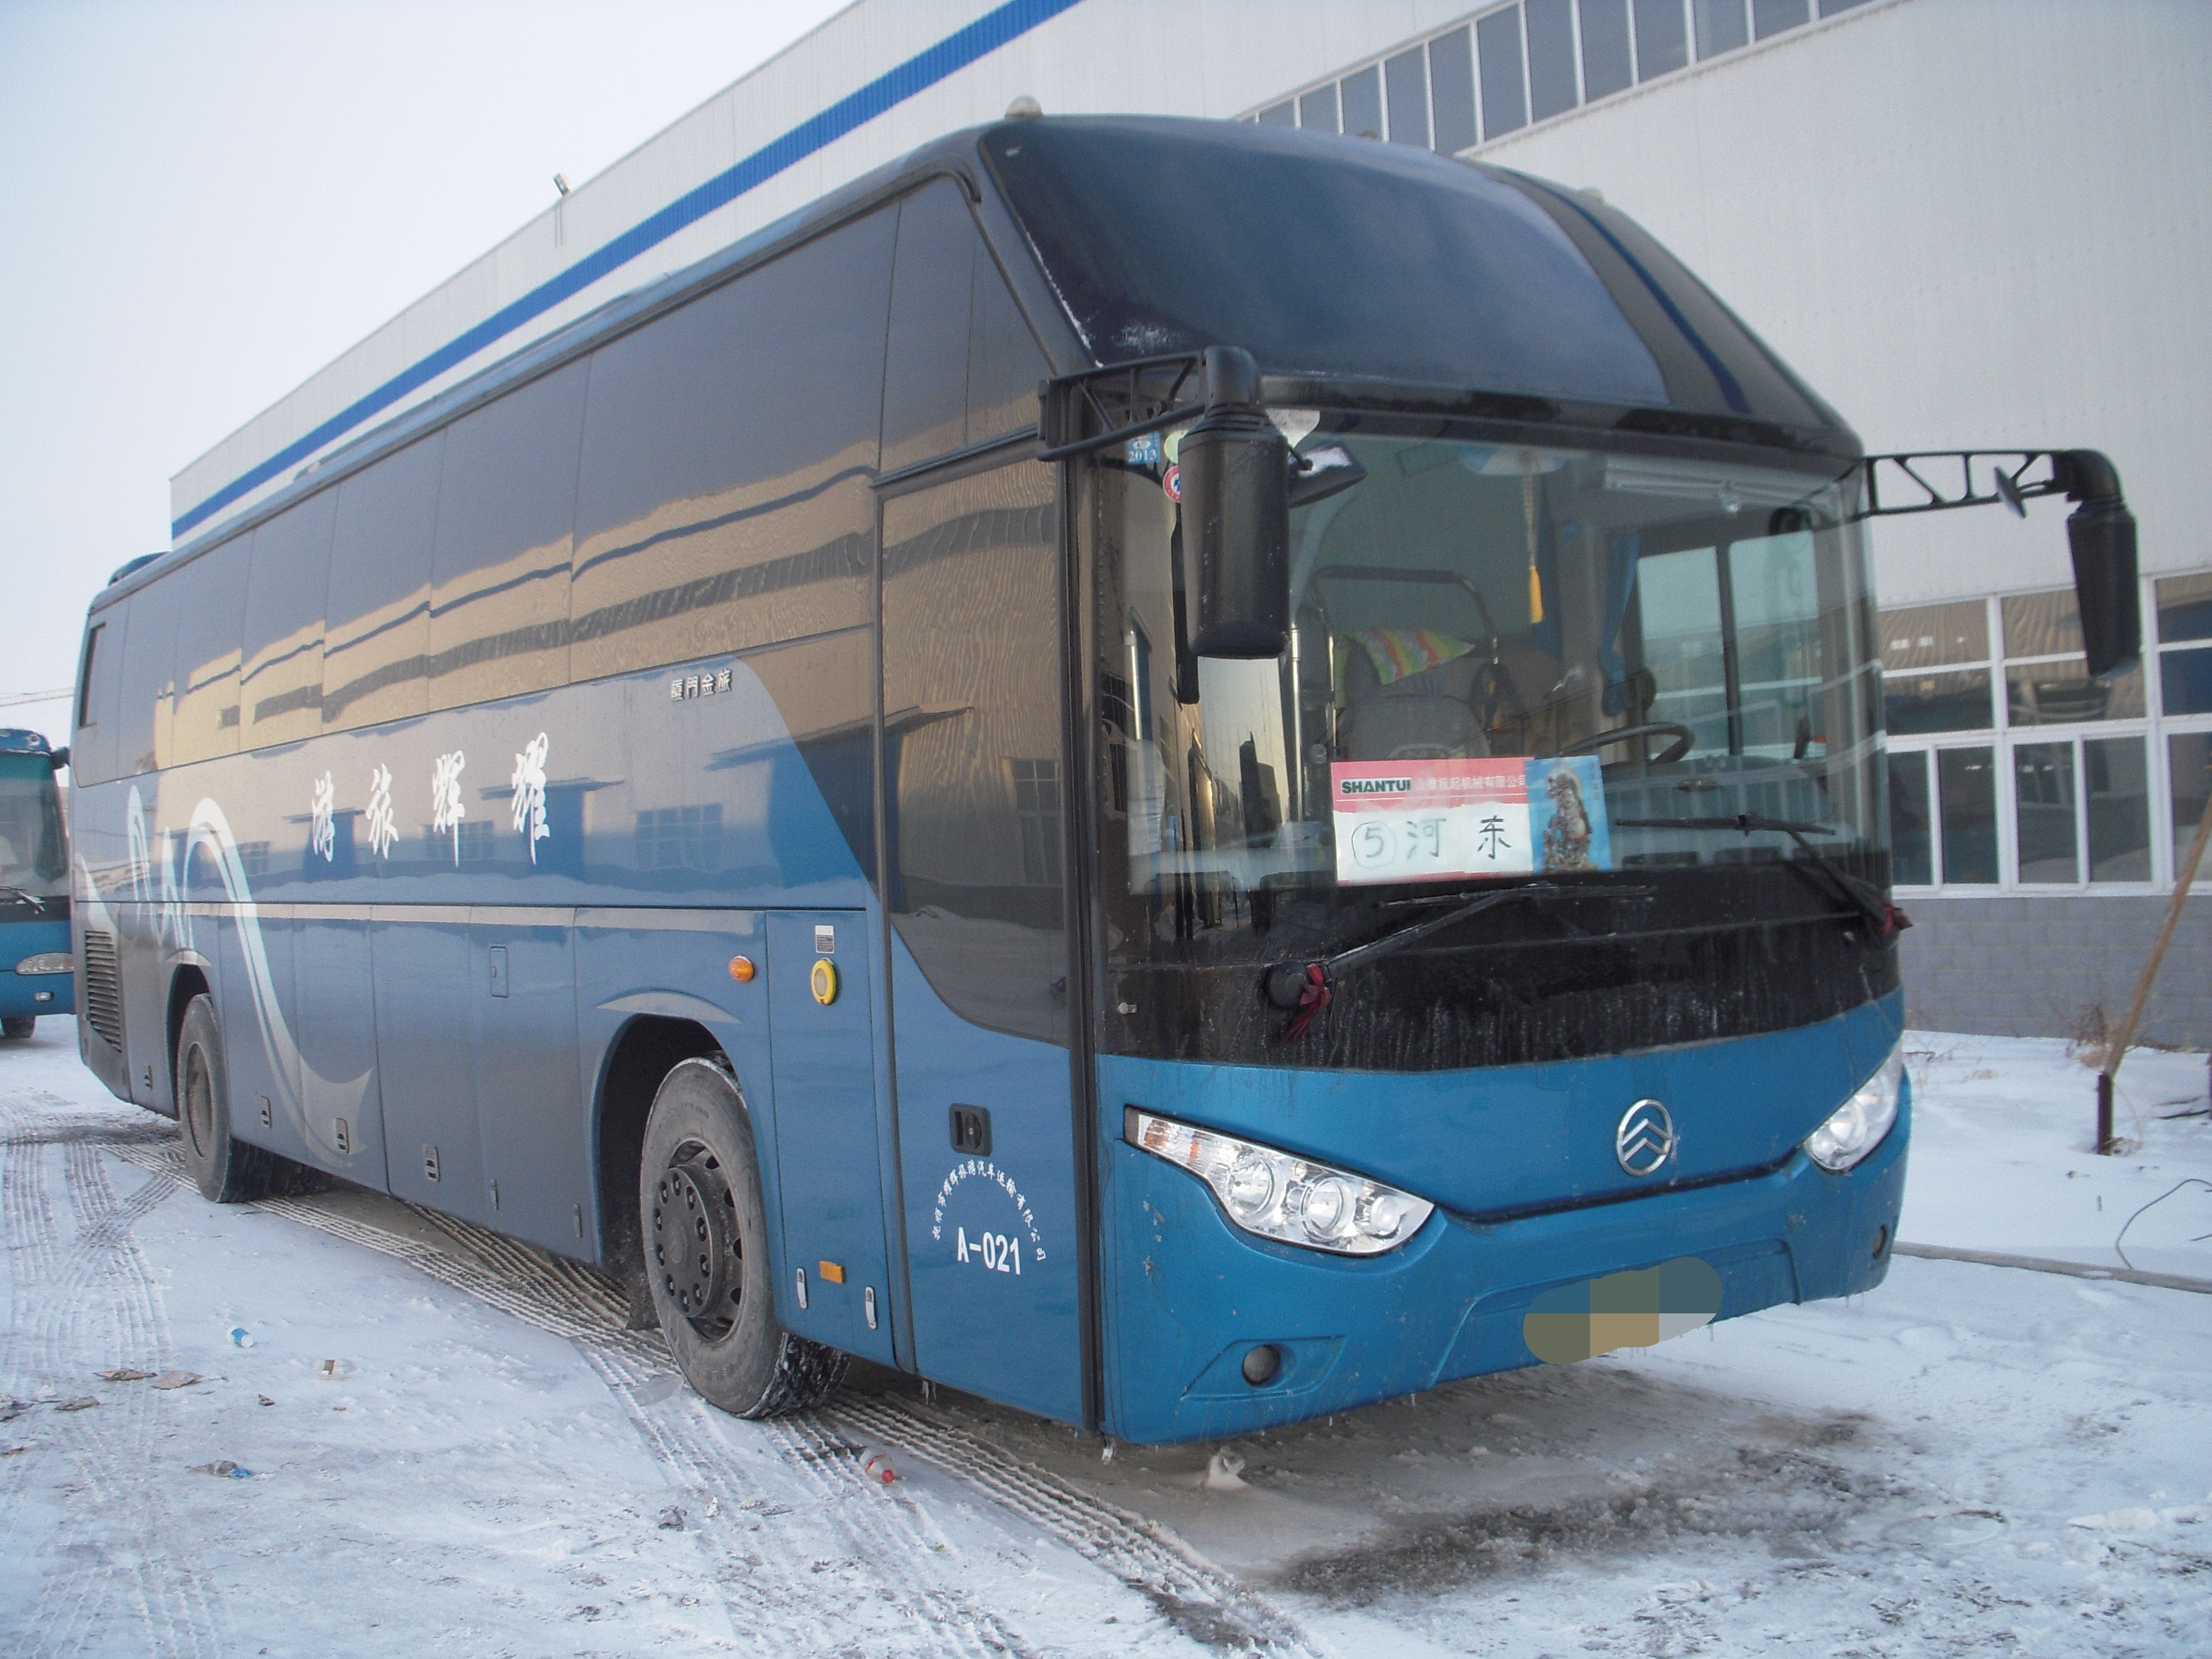bus: (49, 148, 2000, 1460)
